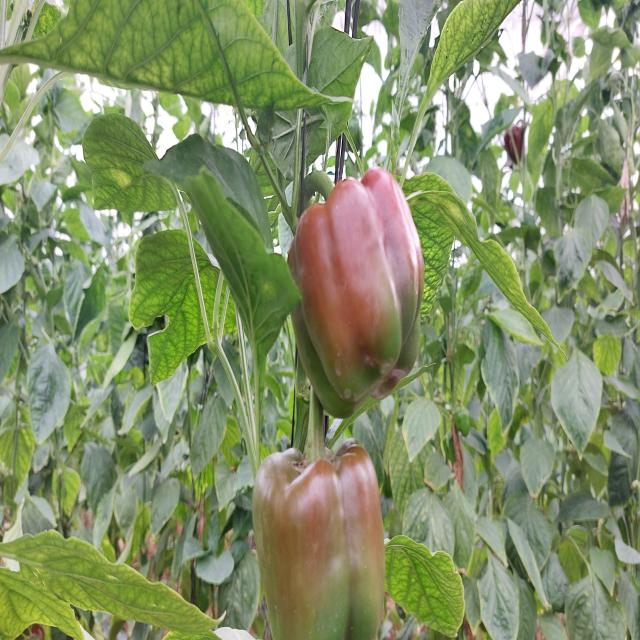BrownishRed--Can-be-Harvested: (282, 167, 423, 426), (259, 441, 386, 639)
